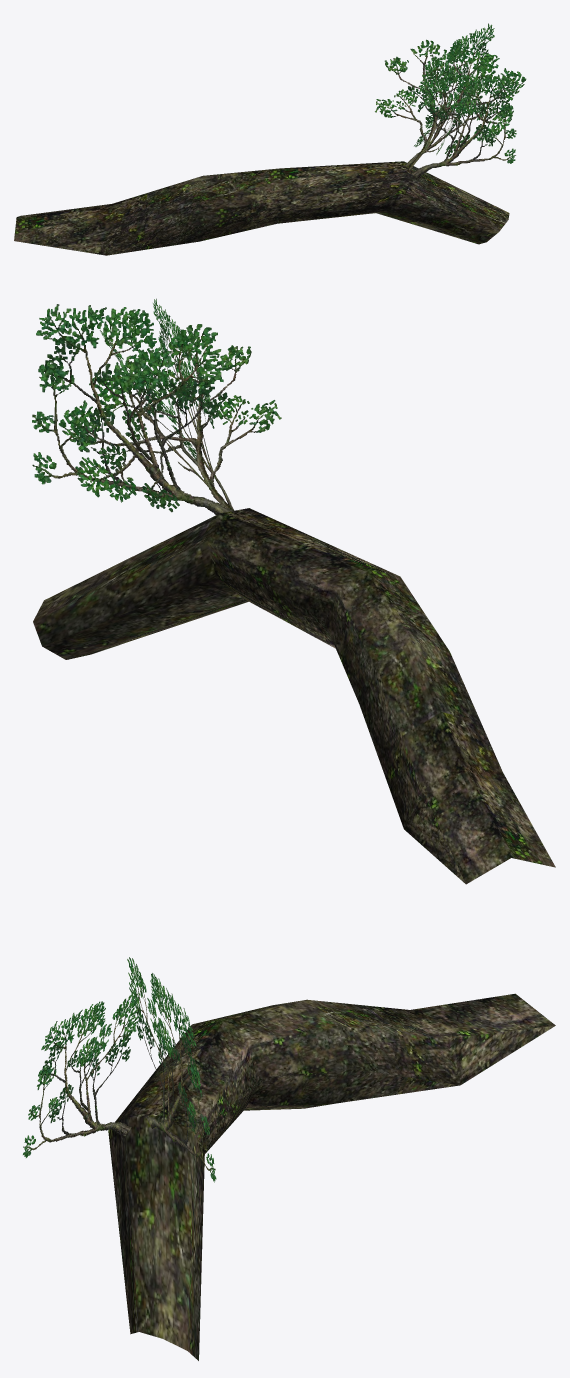
Rendered from c_swamp_tree04.glb.
3 views of the same model, one above another, from view 1: azimuth 30°, elevation 25°; view 2: azimuth 150°, elevation 25°; view 3: azimuth 270°, elevation 25° (orthographic). The views are drawn at different scales.
Parts seen in each view (by area): view 1: C_swamp_tree04_03, C_swamp_tree04_01, C_swamp_tree04_02; view 2: C_swamp_tree04_03, C_swamp_tree04_01, C_swamp_tree04_02; view 3: C_swamp_tree04_03, C_swamp_tree04_01.
Part boxes in pixels (x1,y1,x2,y2): C_swamp_tree04_03: [14, 161, 509, 255]; C_swamp_tree04_01: [405, 23, 516, 179]; C_swamp_tree04_02: [375, 39, 526, 170]; C_swamp_tree04_03: [33, 508, 555, 884]; C_swamp_tree04_01: [32, 298, 233, 514]; C_swamp_tree04_02: [58, 330, 281, 512]; C_swamp_tree04_03: [108, 993, 555, 1360]; C_swamp_tree04_01: [23, 957, 216, 1182].
Bounding box in the file's own units: 6.99 × 3.57 × 4.64.
3 materials, 3 textured.
